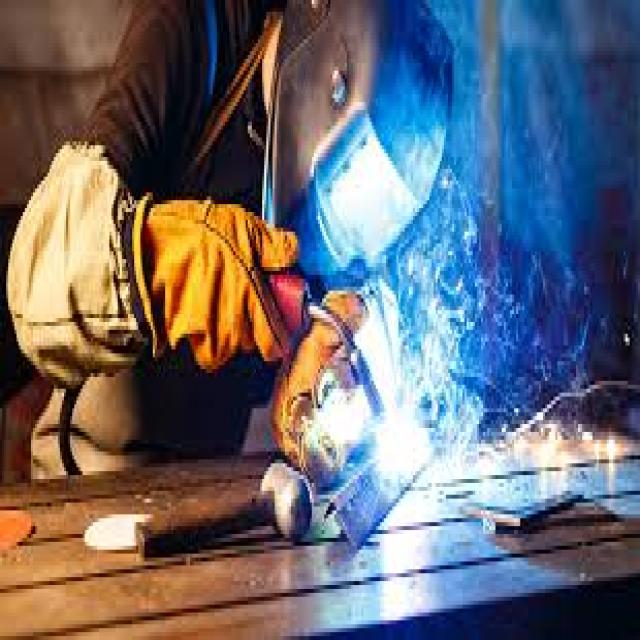welding: (376, 413, 418, 474)
